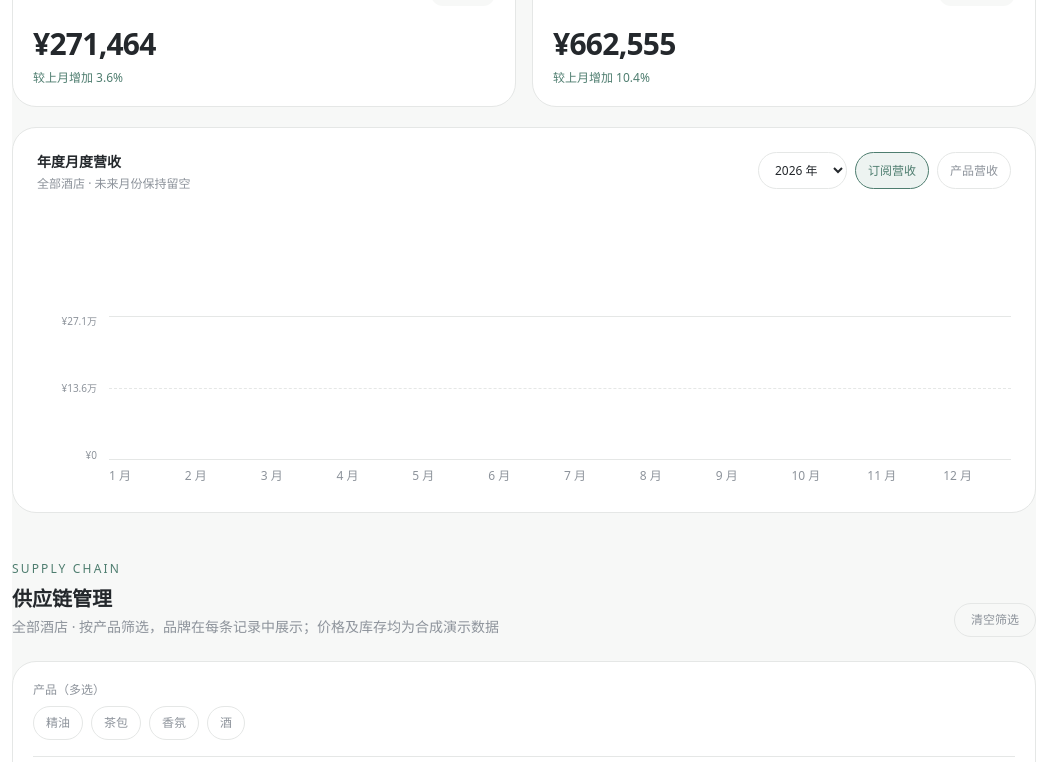
Scenario: commercial dashboard hotel visibility › uses revenue-specific bar heights and reveals exact amounts on hover or focus
(page scrolled)
Expected: the element named "月度营收纵轴" is shown, top-left (61, 314), bottom-right (97, 462)
Expected: the text with test id "revenue-axis-label-2" reads "¥0", top-left (86, 448), bottom-right (97, 462)
Hover over the button with test id "revenue-month-1" at x=143, y=378, box top-left (109, 272), bottom-right (177, 484)
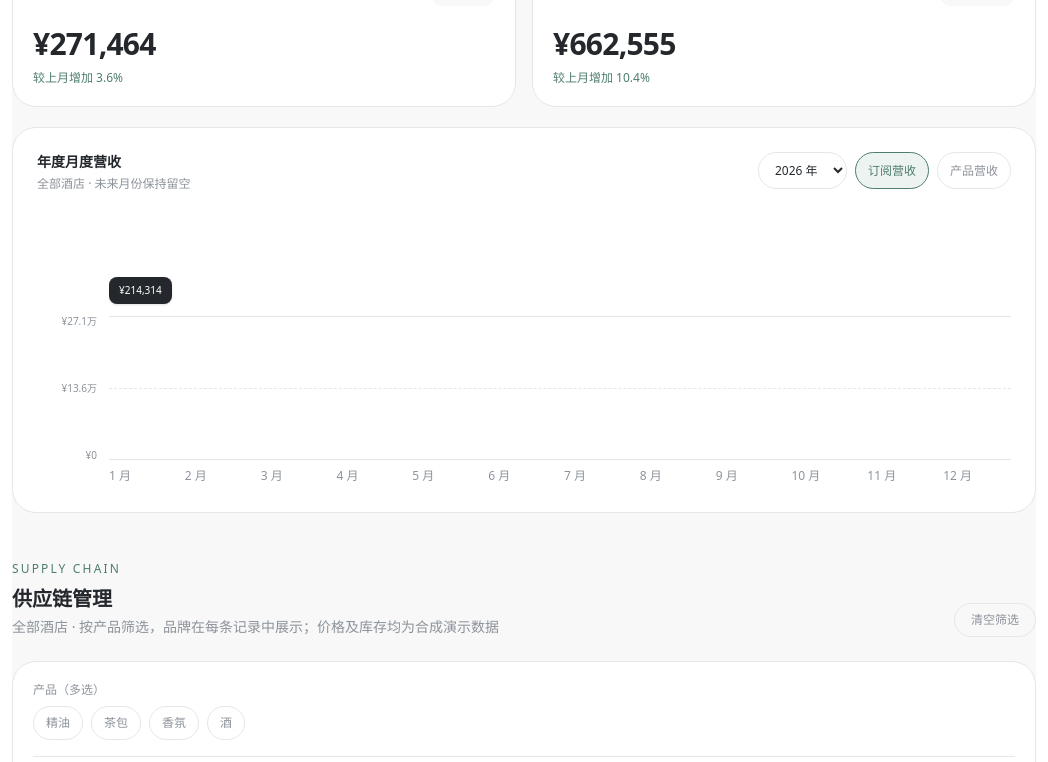
Move the pointer off the button with test id "revenue-month-1", box top-left (109, 272), bottom-right (177, 484)
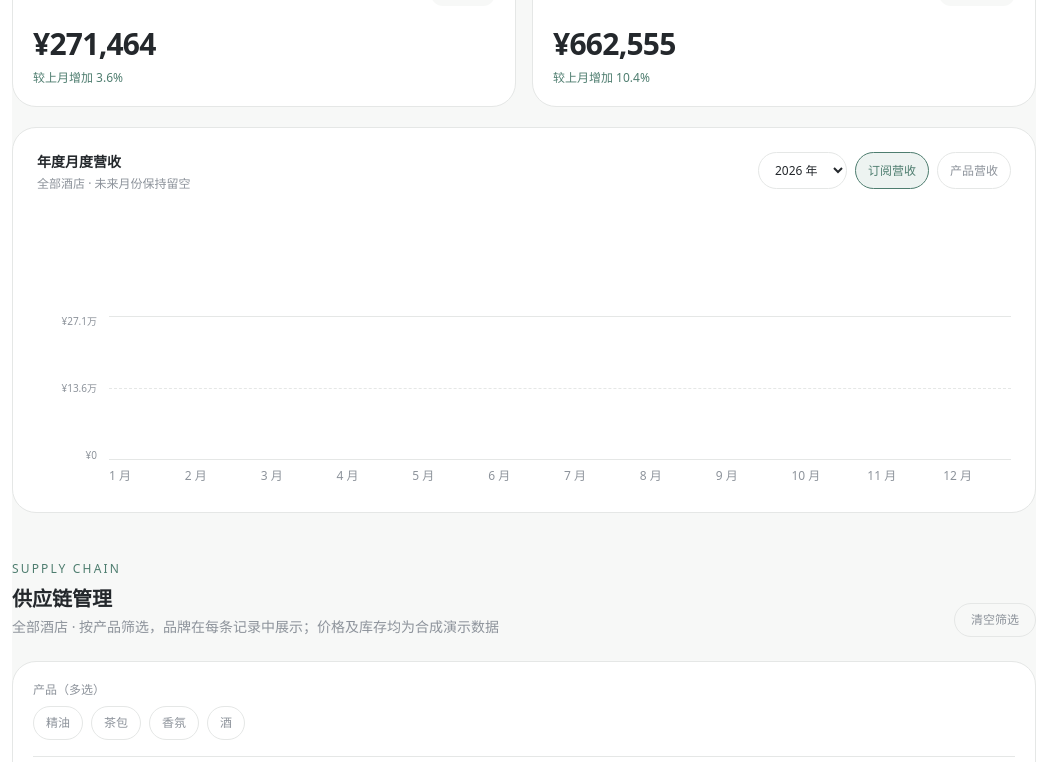
Focus the button with test id "revenue-month-1" at x=143, y=378, box top-left (109, 272), bottom-right (177, 484)
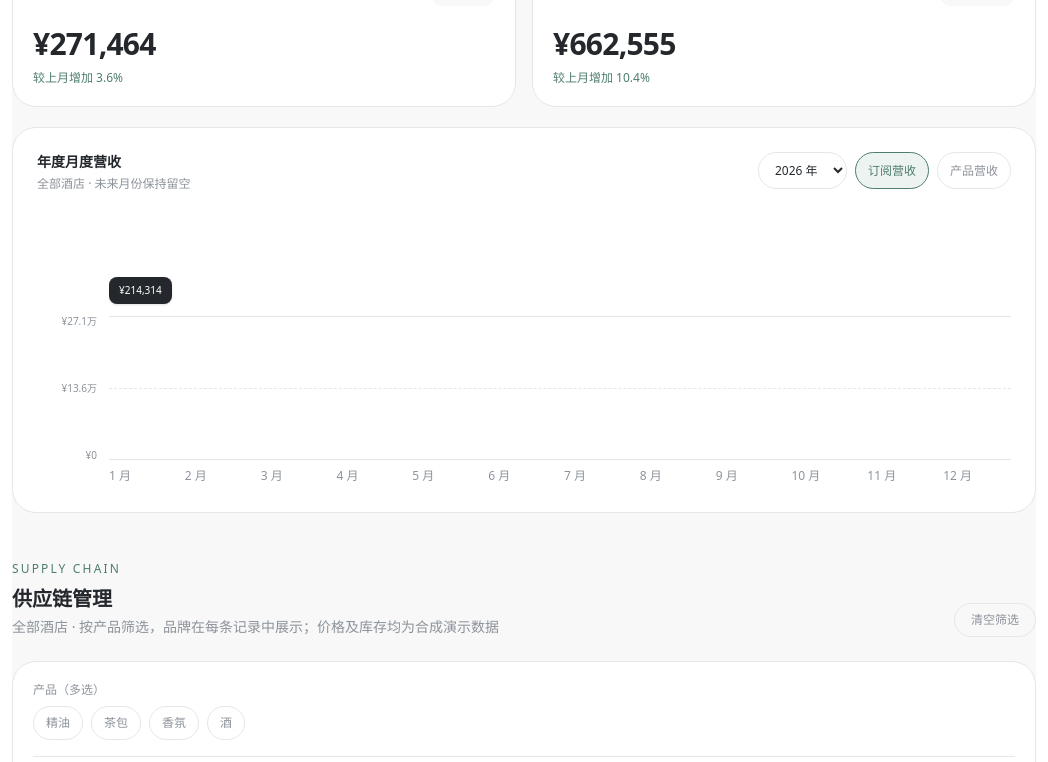
Click the button "产品营收" at x=974, y=170, box top-left (937, 152), bottom-right (1011, 189)
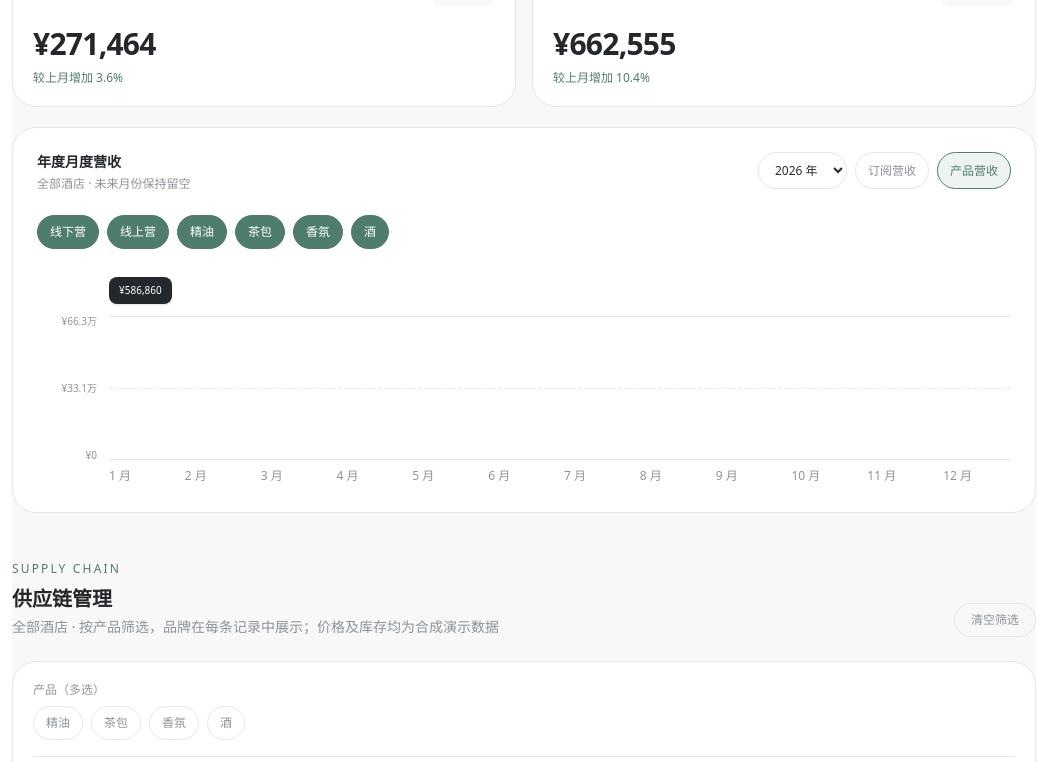
Expected: the button "线上营" is shown, top-left (107, 215), bottom-right (169, 249)
